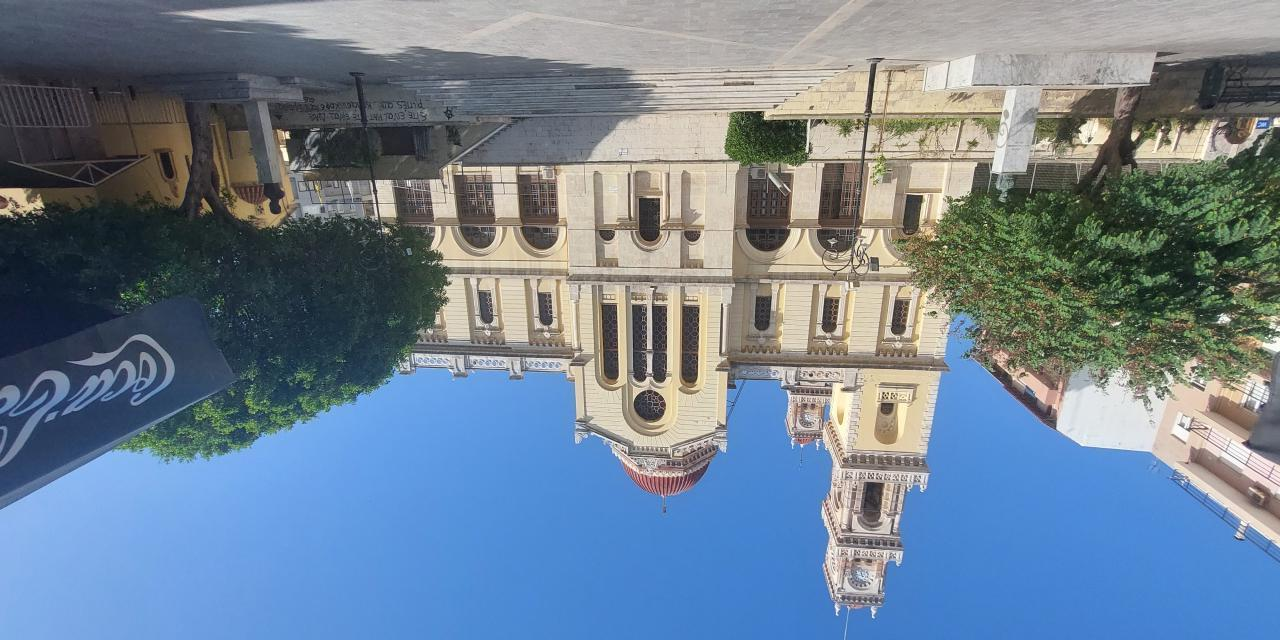Agios Minas: (363, 163, 980, 640)
